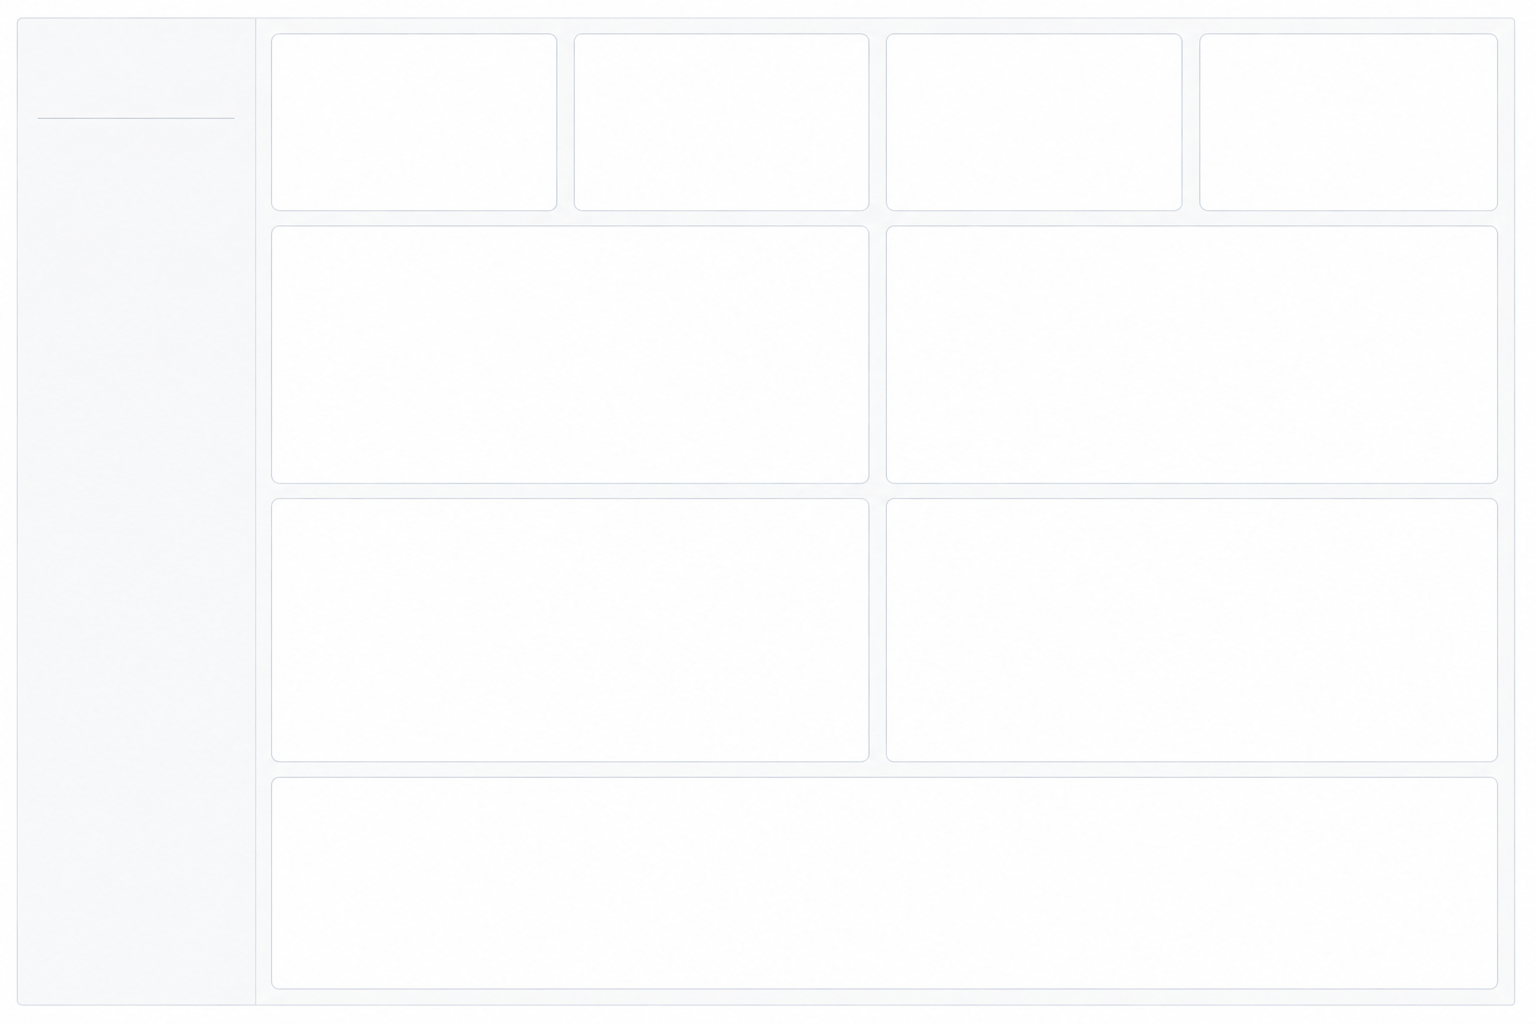

Layout of this report page (visuals, bound fields, positions):
{"tool":"powerbi","page":{"name":"Page 1","canvas":[2560,1440],"ordinal":0},"visuals":[{"type":"cardVisual","fields":{"Data":["Data.TotalProfit"]},"box":[455,55,470,230],"z":0},{"type":"cardVisual","fields":{"Data":["Data.Total Orders"]},"box":[1490,55,475,247.5],"z":1000},{"type":"cardVisual","fields":{"Data":["Data.Total Customers"]},"box":[2002.5,55,492.5,230],"z":2000},{"type":"lineChart","title":"Sales by Month","fields":{"Category":["Data.Order Date.Variation.Date Hierarchy.Month"],"Y2":["Sum(Data.Sales)"]},"box":[455,1102.5,2040,282.5],"z":3000},{"type":"barChart","title":"Top sales of category","fields":{"Category":["Data.Sub-Category"],"Y":["Sum(Data.Sales)"]},"box":[455,720,980,337.5],"z":4000},{"type":"columnChart","title":"Profit by region","fields":{"Category":["Data.Region"],"Y":["Sum(Data.Profit)"]},"box":[455,320,987.5,362.5],"z":5000},{"type":"barChart","title":"Top 10 customers","fields":{"Category":["Data.Customer Name"],"Y":["Sum(Data.Sales)"]},"box":[1490,320,1005,335],"z":6000},{"type":"slicer","fields":{"Values":["Data.Region"]},"box":[45,197.5,365,297.5],"z":7000},{"type":"slicer","fields":{"Values":["Data.Category"]},"box":[45,552.5,365,102.5],"z":8000},{"type":"slicer","fields":{"Values":["Data.Order Date.Variation.Date Hierarchy.Year"]},"box":[45,742.5,365,235],"z":9000},{"type":"pieChart","title":"Top 7 products","fields":{"Category":["Data.Product Name"],"Y":["Sum(Data.Sales)"]},"box":[1490,712.5,1005,355],"z":10000},{"type":"textbox","box":[45,1103,365,283],"z":11000},{"type":"cardVisual","fields":{"Data":["Data.Total profit"]},"box":[937.5,55,497.5,247.5],"z":12000},{"type":"textbox","box":[20,55,412.5,87.5],"z":13000}]}

Visuals, with their boxes in screenshot pixels (x1, y1, x2, y2):
cardVisual - Data.TotalProfit: (left=263, top=134, right=551, bottom=275)
cardVisual - Data.Total Orders: (left=898, top=134, right=1189, bottom=286)
cardVisual - Data.Total Customers: (left=1212, top=134, right=1515, bottom=275)
"Sales by Month" lineChart: (left=263, top=776, right=1515, bottom=950)
"Top sales of category" barChart: (left=263, top=542, right=864, bottom=749)
"Profit by region" columnChart: (left=263, top=296, right=869, bottom=519)
"Top 10 customers" barChart: (left=898, top=296, right=1515, bottom=502)
slicer - Data.Region: (left=12, top=221, right=236, bottom=404)
slicer - Data.Category: (left=12, top=439, right=236, bottom=502)
slicer - Data.Order Date.Variation.Date Hierarchy.Year: (left=12, top=555, right=236, bottom=700)
"Top 7 products" pieChart: (left=898, top=537, right=1515, bottom=755)
textbox: (left=12, top=777, right=236, bottom=950)
cardVisual - Data.Total profit: (left=559, top=134, right=864, bottom=286)
textbox: (left=0, top=134, right=249, bottom=187)
